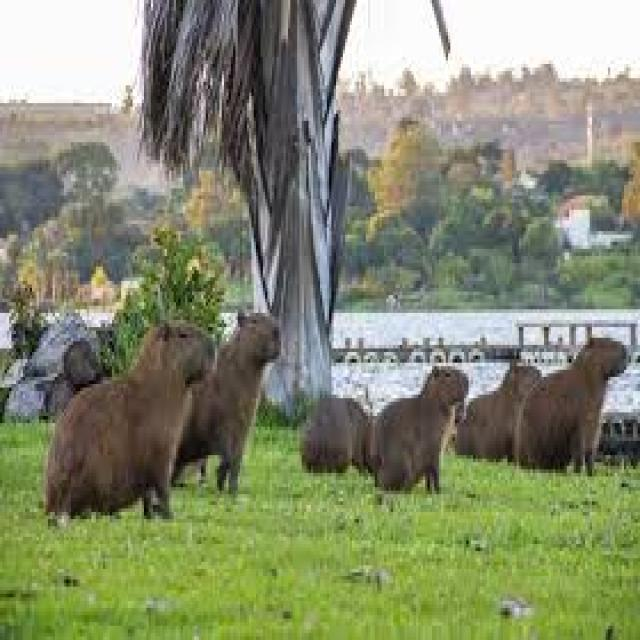capy: (46, 323, 215, 520), (196, 310, 282, 496), (519, 335, 630, 475), (372, 363, 470, 500), (463, 362, 540, 464)
